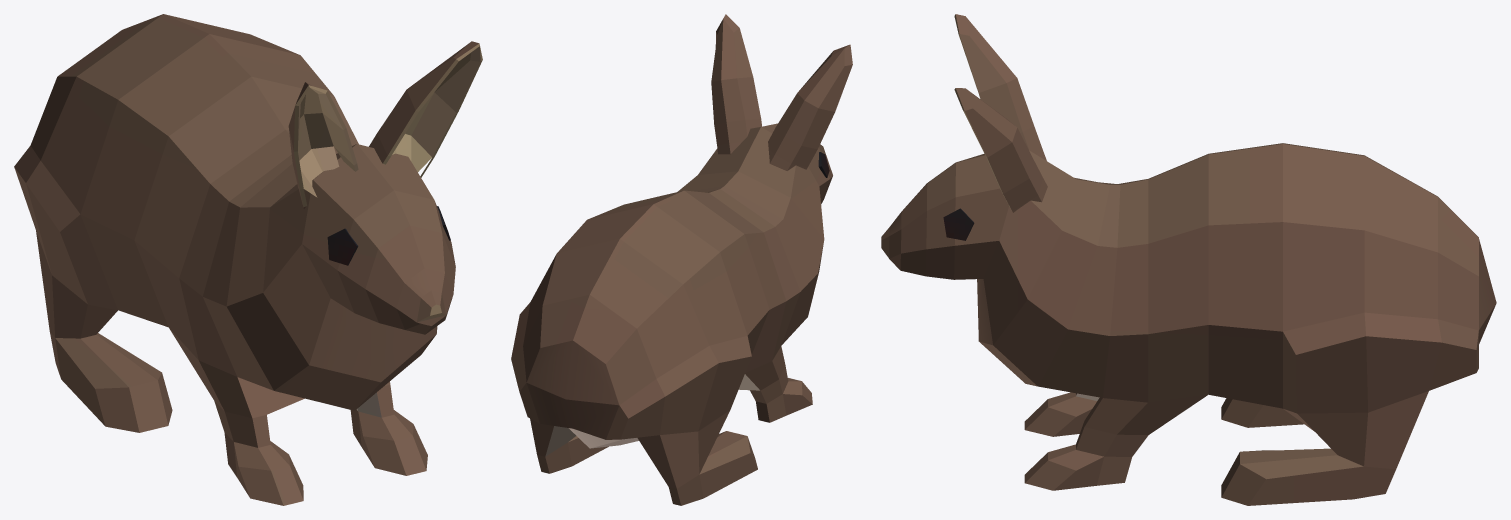
The model's file is rabbit.glb.
3 views of the same model, side by side, from view 1: azimuth 30°, elevation 25°; view 2: azimuth 150°, elevation 25°; view 3: azimuth 270°, elevation 25° (orthographic). The views are drawn at different scales.
Parts seen in each view (by area): view 1: Geo_Rabbit; view 2: Geo_Rabbit; view 3: Geo_Rabbit.
Part boxes in pixels (x1,y1,x2,y2): Geo_Rabbit: (14,14,482,505); Geo_Rabbit: (511,14,852,505); Geo_Rabbit: (881,14,1496,505).
Size of the model in its own units: 41.04 by 62.44 by 86.73.
1 material, 1 textured.
